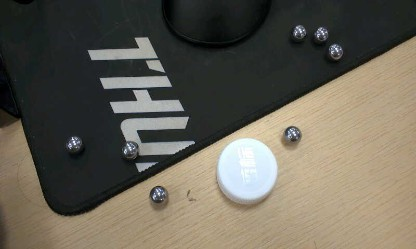ironball: (148, 185, 168, 206), (120, 140, 139, 160), (65, 135, 84, 154), (282, 125, 301, 144), (290, 24, 306, 42), (326, 43, 342, 60), (313, 26, 328, 43)
